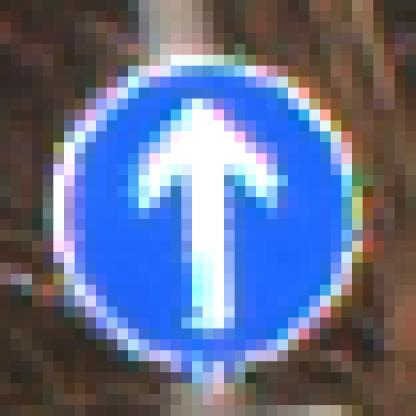straight: (32, 44, 374, 394)
